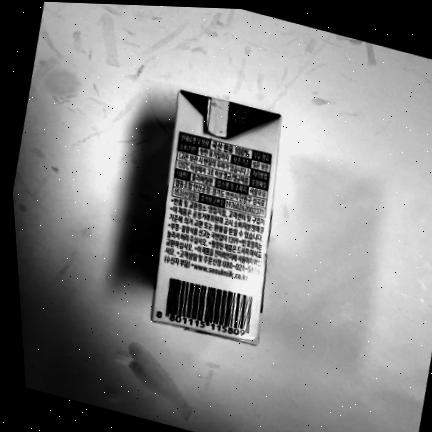milk_blue: (151, 90, 281, 345)
